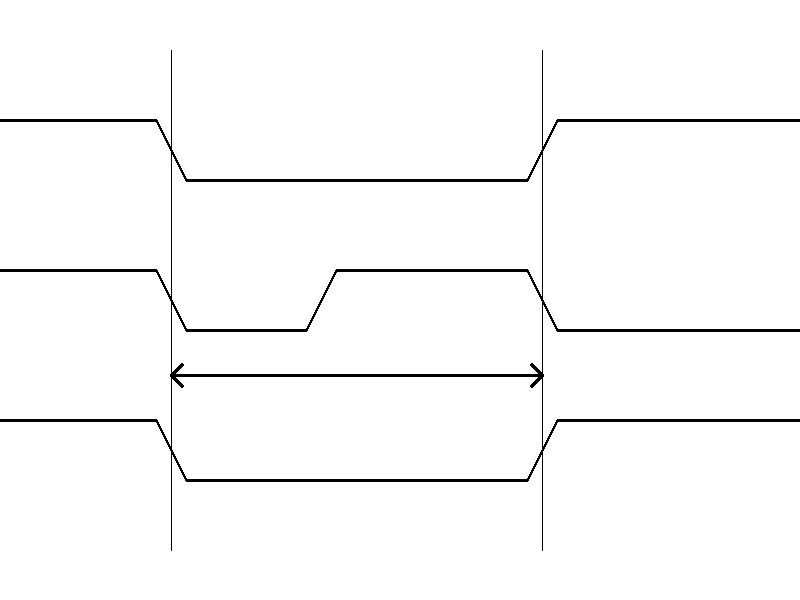double_arrow: (171, 360, 542, 390)
